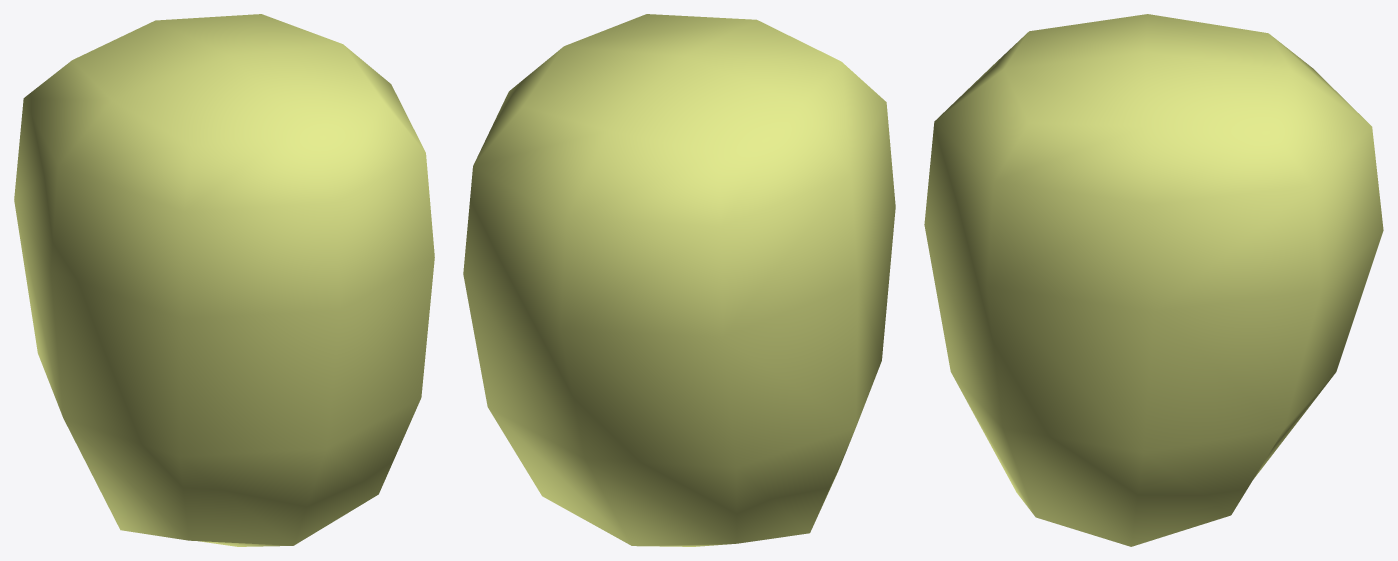
File: garlic.fbx
3 renders of one model, left to right at view 1: azimuth 30°, elevation 25°; view 2: azimuth 150°, elevation 25°; view 3: azimuth 270°, elevation 25°, orthographic. The views are drawn at different scales.
Visible parts, largest first — view 1: Garlic; view 2: Garlic; view 3: Garlic.
Boxes of the visible parts, x1,y1,x2,y2 form: Garlic: (14, 14, 434, 546); Garlic: (463, 14, 895, 546); Garlic: (924, 14, 1383, 546).
Size of the model in its own units: 12.94 by 17.23 by 14.9.
